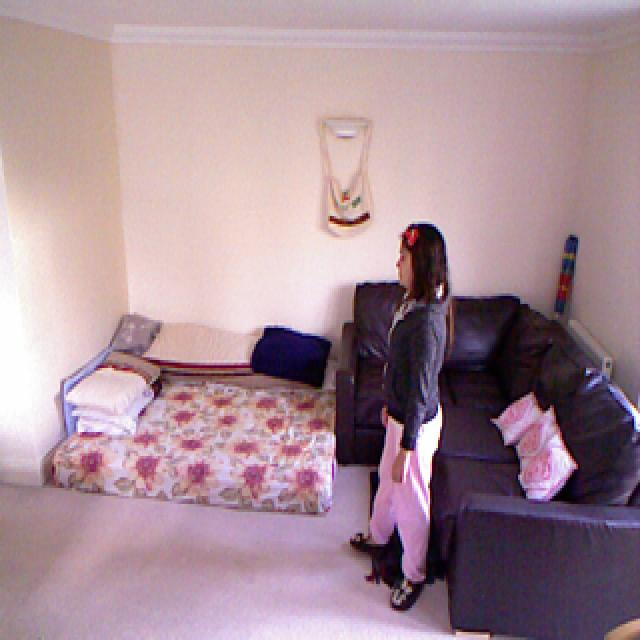standing: (352, 222, 448, 608)
